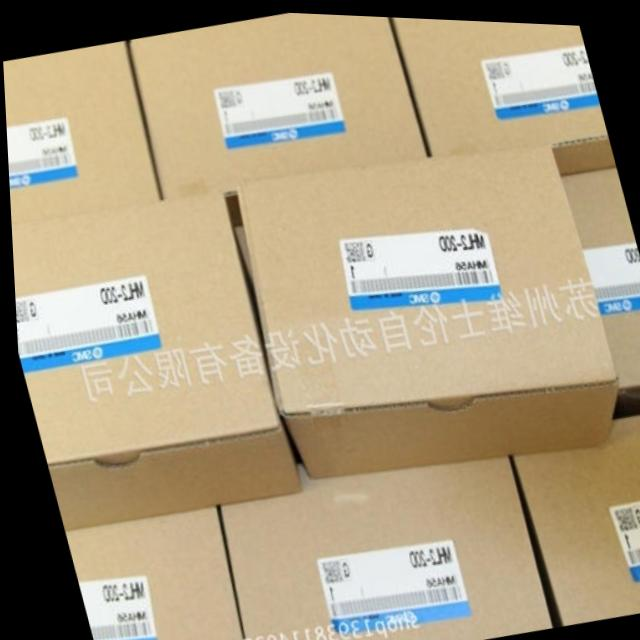box: (235, 140, 615, 476), (9, 191, 299, 529), (126, 10, 427, 225), (213, 453, 545, 640), (391, 14, 614, 170), (2, 39, 159, 222), (506, 409, 640, 621), (59, 504, 236, 640), (560, 160, 640, 413)
